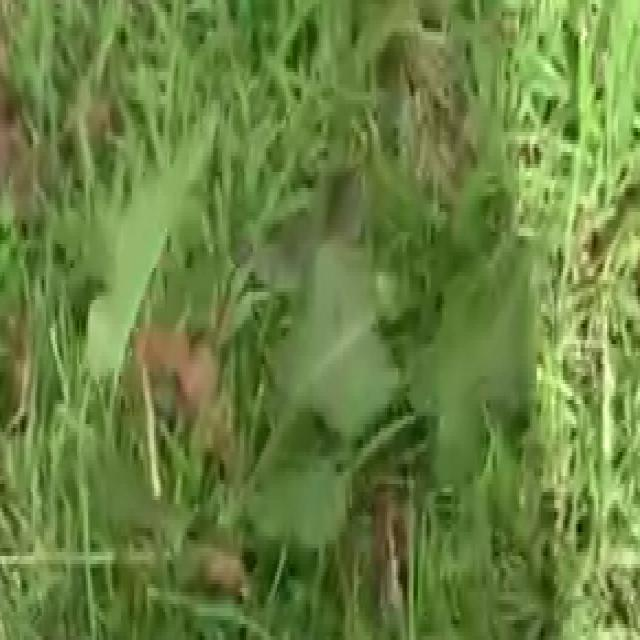organic waste: (75, 128, 534, 600)
